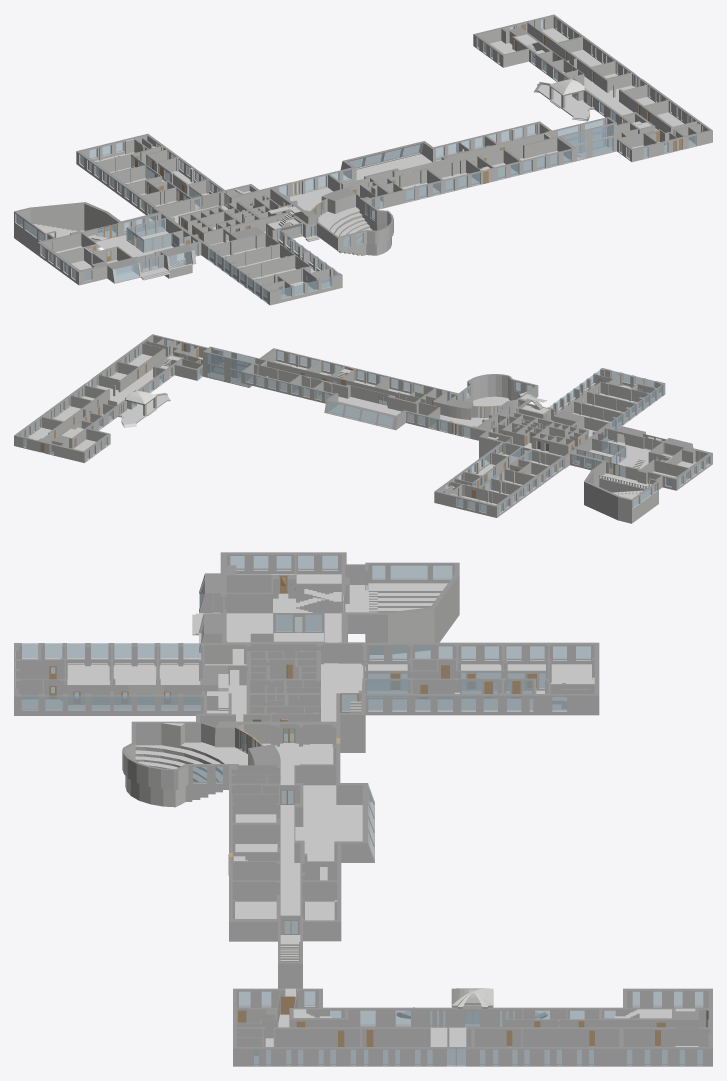
Rendered from VeaModel1.glb.
3 renders of one model, top to bottom at view 1: azimuth 30°, elevation 25°; view 2: azimuth 150°, elevation 25°; view 3: azimuth 270°, elevation 25°, orthographic. The views are drawn at different scales.
Visible parts, largest first — view 1: 1st floor; view 2: 1st floor; view 3: 1st floor.
Boxes of the visible parts, x1=… form: 1st floor: x1=14, y1=14, x2=712, y2=305; 1st floor: x1=14, y1=334, x2=712, y2=523; 1st floor: x1=14, y1=552, x2=712, y2=1066.
Bounding box in the file's own units: 4.36 × 0.2837 × 2.73.
